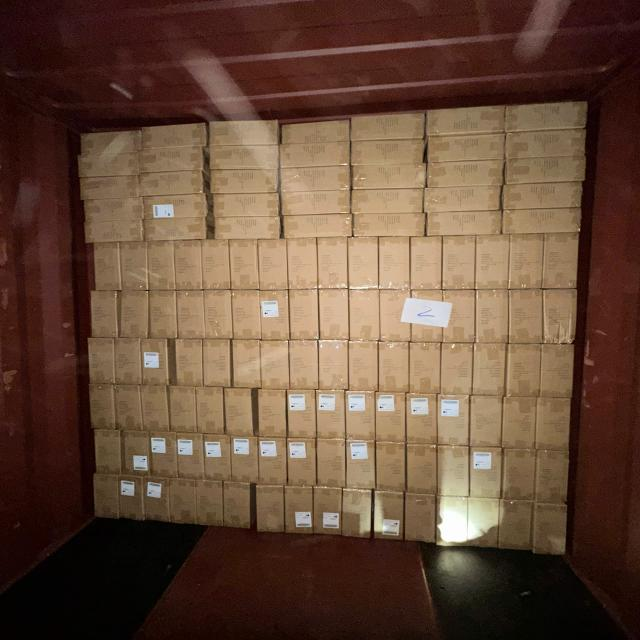Carton: (503, 153, 588, 185), (503, 101, 590, 132), (505, 130, 589, 161), (425, 107, 505, 139), (424, 134, 504, 164), (502, 207, 584, 236), (80, 196, 144, 233), (500, 182, 584, 210), (82, 208, 147, 244), (422, 186, 502, 214), (428, 162, 506, 190), (349, 115, 424, 144), (424, 210, 502, 237), (349, 139, 424, 167), (544, 232, 580, 290), (530, 503, 568, 557), (351, 189, 426, 216), (208, 120, 280, 148), (280, 142, 352, 170), (541, 342, 576, 398), (351, 212, 426, 238), (533, 449, 569, 503), (350, 167, 424, 193), (207, 146, 281, 172), (281, 190, 352, 217), (209, 168, 280, 195), (536, 398, 572, 451), (544, 289, 578, 345), (510, 234, 544, 290), (280, 166, 352, 192), (476, 288, 510, 343), (507, 288, 541, 343), (476, 235, 510, 290), (142, 123, 208, 151), (280, 120, 351, 146), (507, 345, 541, 399), (138, 148, 206, 175), (473, 343, 508, 395), (211, 193, 281, 219), (143, 214, 208, 242), (503, 397, 537, 450), (498, 499, 532, 552), (442, 238, 475, 292), (282, 214, 353, 239), (212, 216, 282, 241), (443, 291, 476, 344), (141, 194, 208, 220), (411, 238, 443, 292), (77, 127, 141, 154), (78, 173, 142, 200), (438, 445, 471, 497), (438, 395, 471, 447), (138, 170, 204, 196), (379, 239, 411, 292), (504, 448, 536, 501), (411, 291, 443, 344), (468, 499, 501, 550), (436, 497, 469, 548), (471, 446, 503, 498), (442, 342, 474, 394), (471, 396, 503, 448), (379, 290, 411, 342), (348, 239, 379, 292), (348, 290, 379, 343), (379, 340, 410, 392), (411, 342, 442, 394), (318, 238, 349, 290), (318, 290, 349, 342), (288, 238, 319, 290), (407, 395, 438, 446), (405, 495, 437, 544), (376, 442, 407, 492), (407, 444, 438, 494), (349, 341, 379, 392), (316, 390, 346, 441), (321, 340, 351, 391), (346, 439, 376, 490), (260, 241, 289, 293), (288, 291, 318, 341), (286, 388, 316, 438), (346, 392, 376, 442), (288, 437, 318, 487), (231, 242, 261, 292), (342, 490, 372, 540), (376, 394, 406, 444), (374, 492, 404, 542), (120, 292, 151, 340), (262, 291, 291, 342), (175, 242, 204, 293), (288, 340, 318, 389), (284, 487, 314, 536), (258, 390, 288, 439), (173, 338, 203, 387), (225, 389, 255, 438), (256, 484, 286, 533), (232, 339, 262, 388), (317, 438, 346, 488), (224, 481, 254, 529), (76, 154, 141, 176), (262, 340, 291, 389), (93, 244, 122, 293), (121, 243, 150, 292), (203, 242, 231, 292), (314, 488, 342, 538), (233, 291, 261, 341), (205, 292, 233, 341), (176, 292, 204, 341), (147, 243, 175, 292), (169, 387, 198, 434), (176, 434, 205, 481), (91, 292, 120, 339), (88, 338, 117, 385), (149, 291, 177, 339), (204, 339, 232, 387), (142, 386, 170, 434), (260, 438, 288, 486), (143, 476, 171, 524), (94, 430, 123, 476), (204, 435, 232, 482), (232, 436, 260, 483), (92, 473, 120, 520), (142, 338, 169, 386), (198, 387, 225, 435), (196, 480, 224, 526), (87, 386, 115, 432), (115, 338, 142, 385), (115, 386, 142, 433), (150, 432, 177, 479), (124, 432, 152, 477), (172, 479, 199, 525), (120, 476, 146, 522)
